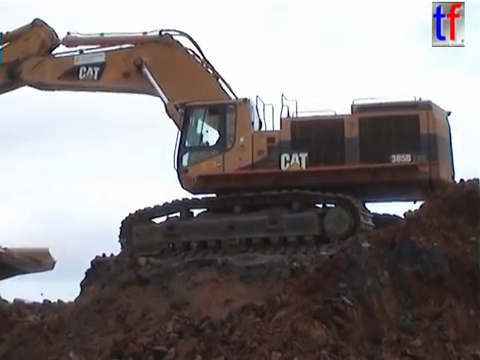excavator: (1, 15, 459, 262)
truck: (1, 244, 59, 284)
